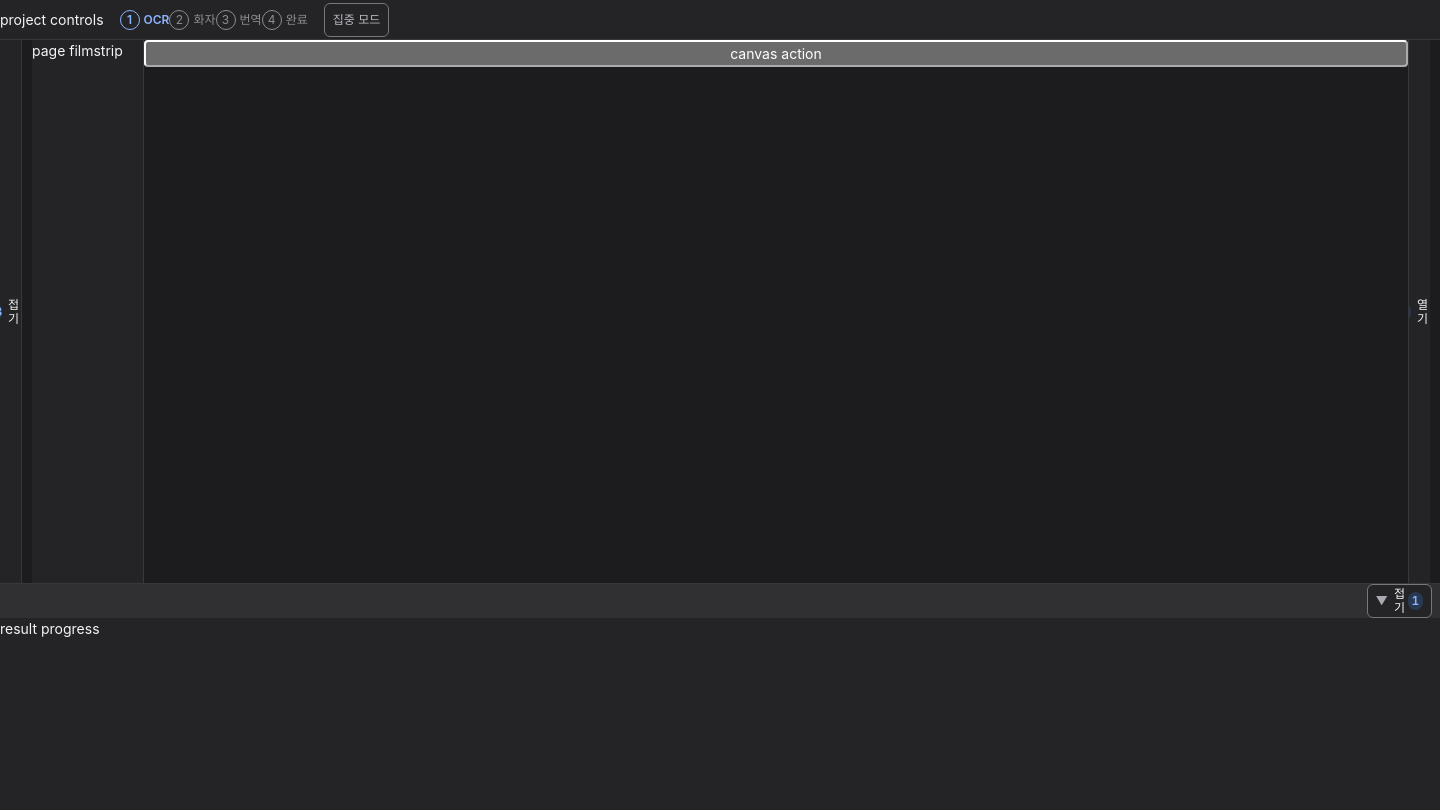
it: FocusDeckShell › hides every supporting region in focus mode and restores the exact previous combination
This screenshot has width=1440, height=810.
Click the button with aria-label "집중 모드 켜기" at (356, 20), box [324,2,389,36]
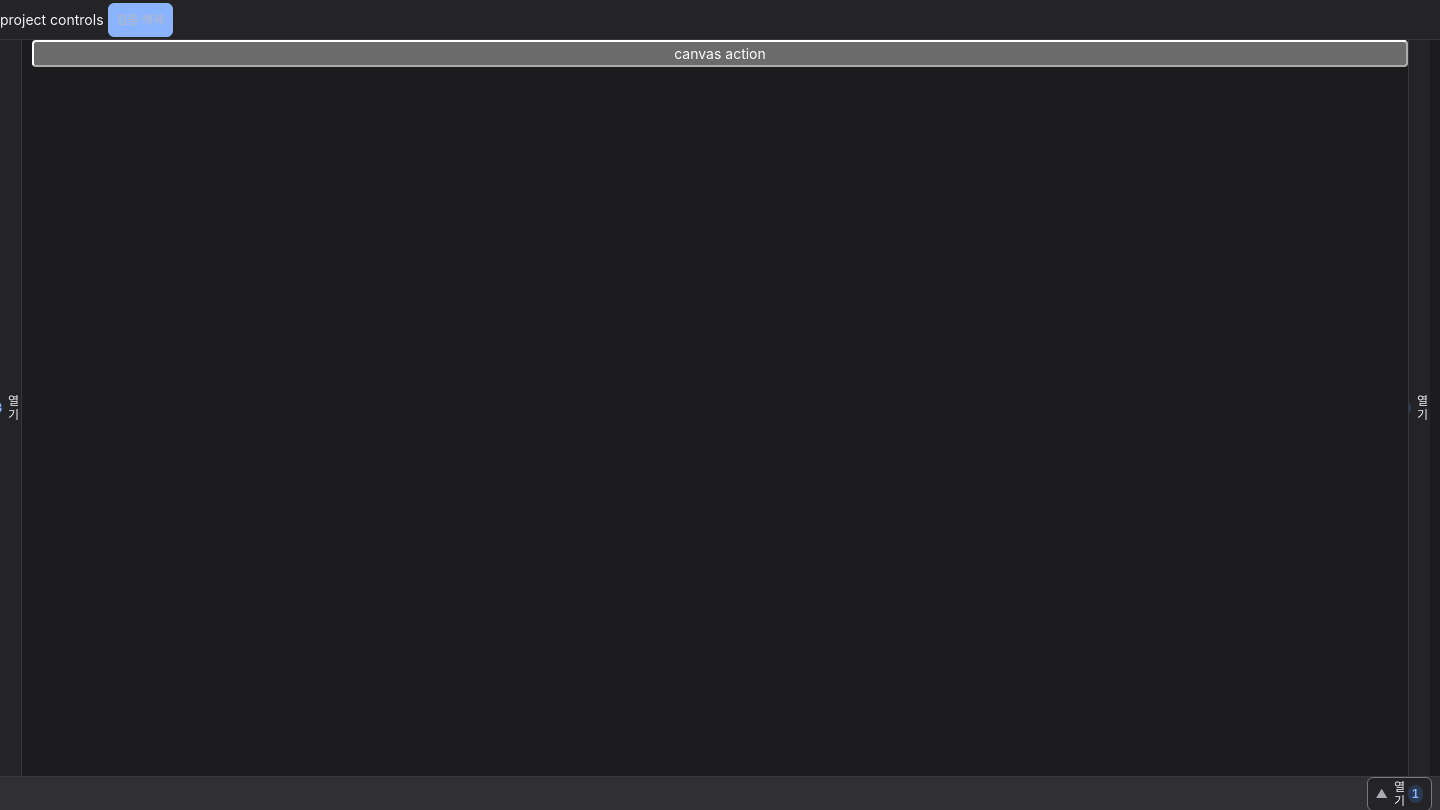
Result: the text "page filmstrip" is gone
Result: the text "result progress" is gone
Result: the button with aria-label "페이지 목록 열기" is collapsed at [0,40,21,776]
Click the button with aria-label "집중 모드 끄기" at (140, 20), box [108,2,173,36]
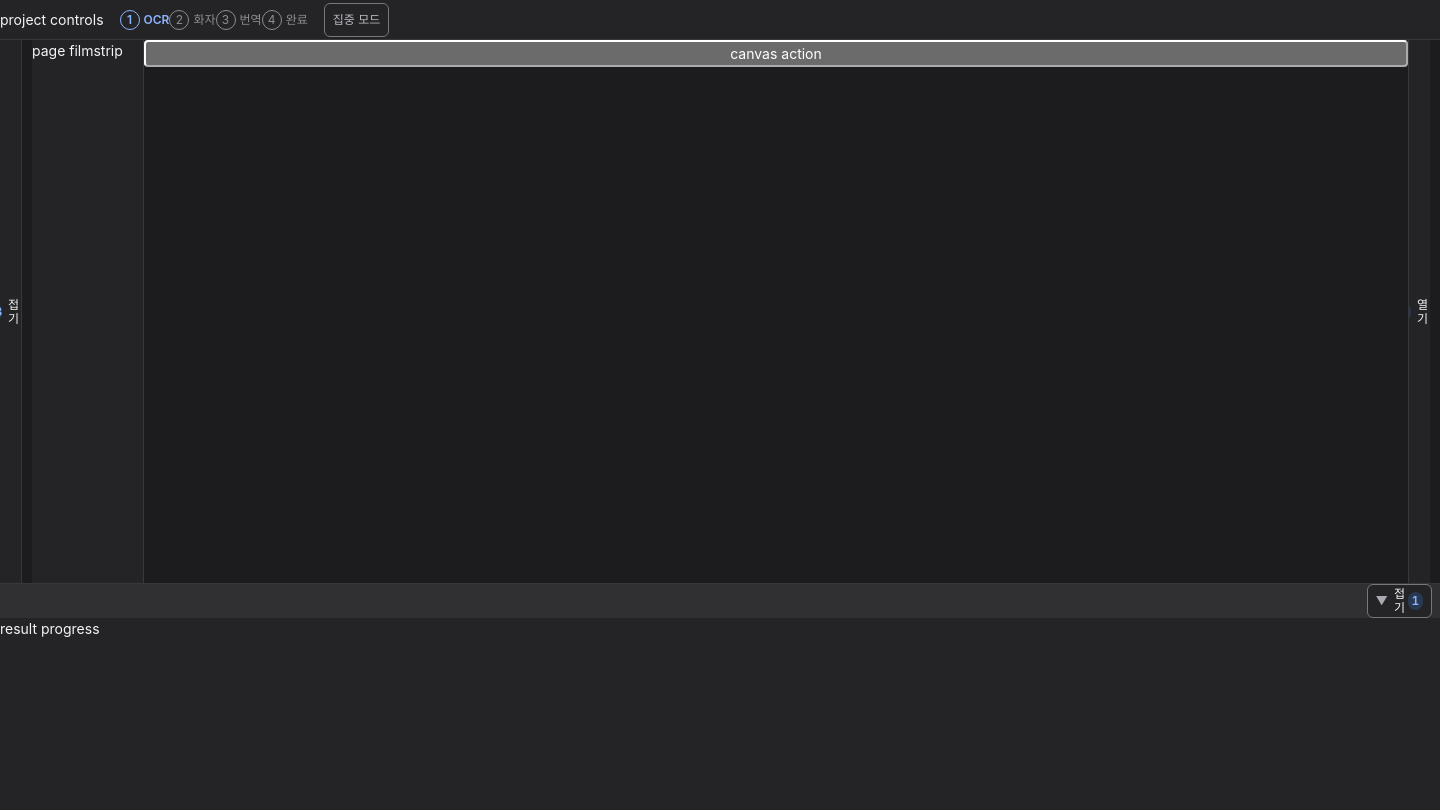
Result: the text "page filmstrip" is shown at [32,42,123,59]
Result: the text "result progress" is shown at [0,620,100,637]
